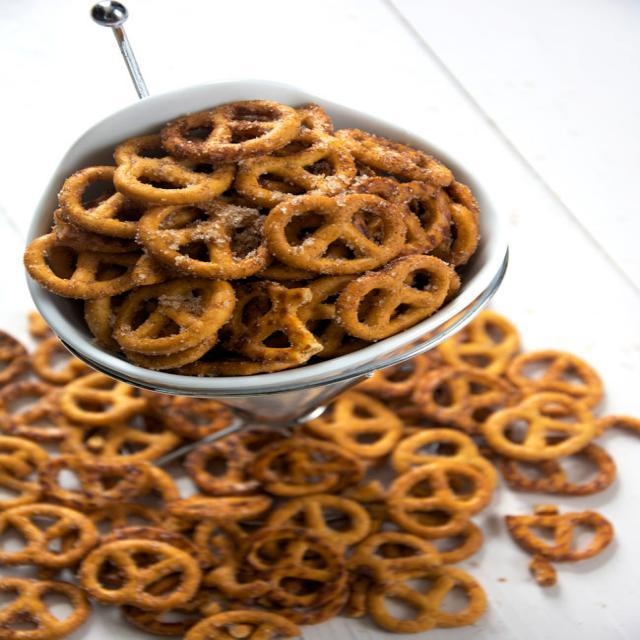Salatini: (27, 99, 478, 361)
